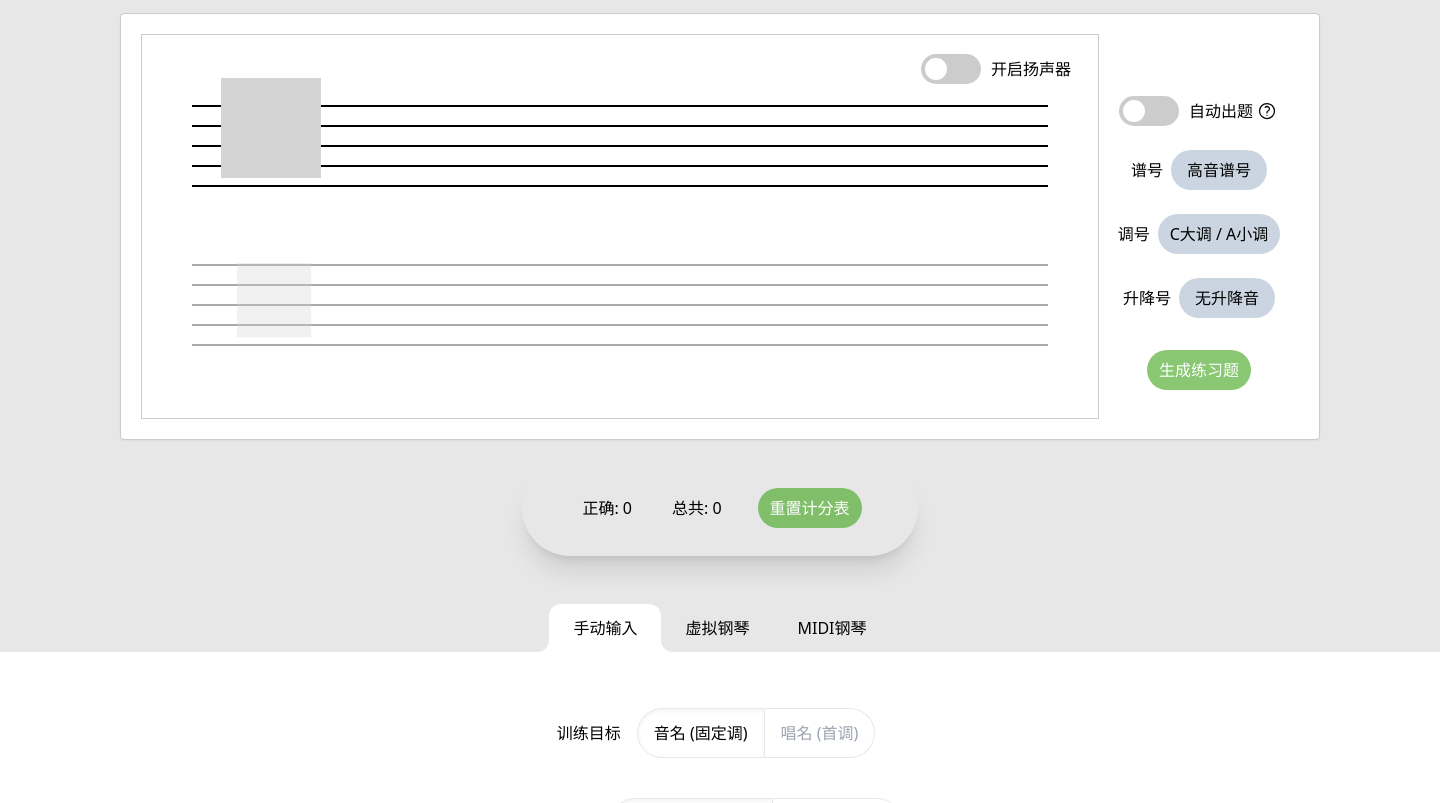
Test: answer submission › submitting a correct answer shows the correct feedback message
Note: Generate a note first
Click the button "生成练习题".
click(1199, 370)  # box [1147, 350, 1251, 390]
(page scrolled)
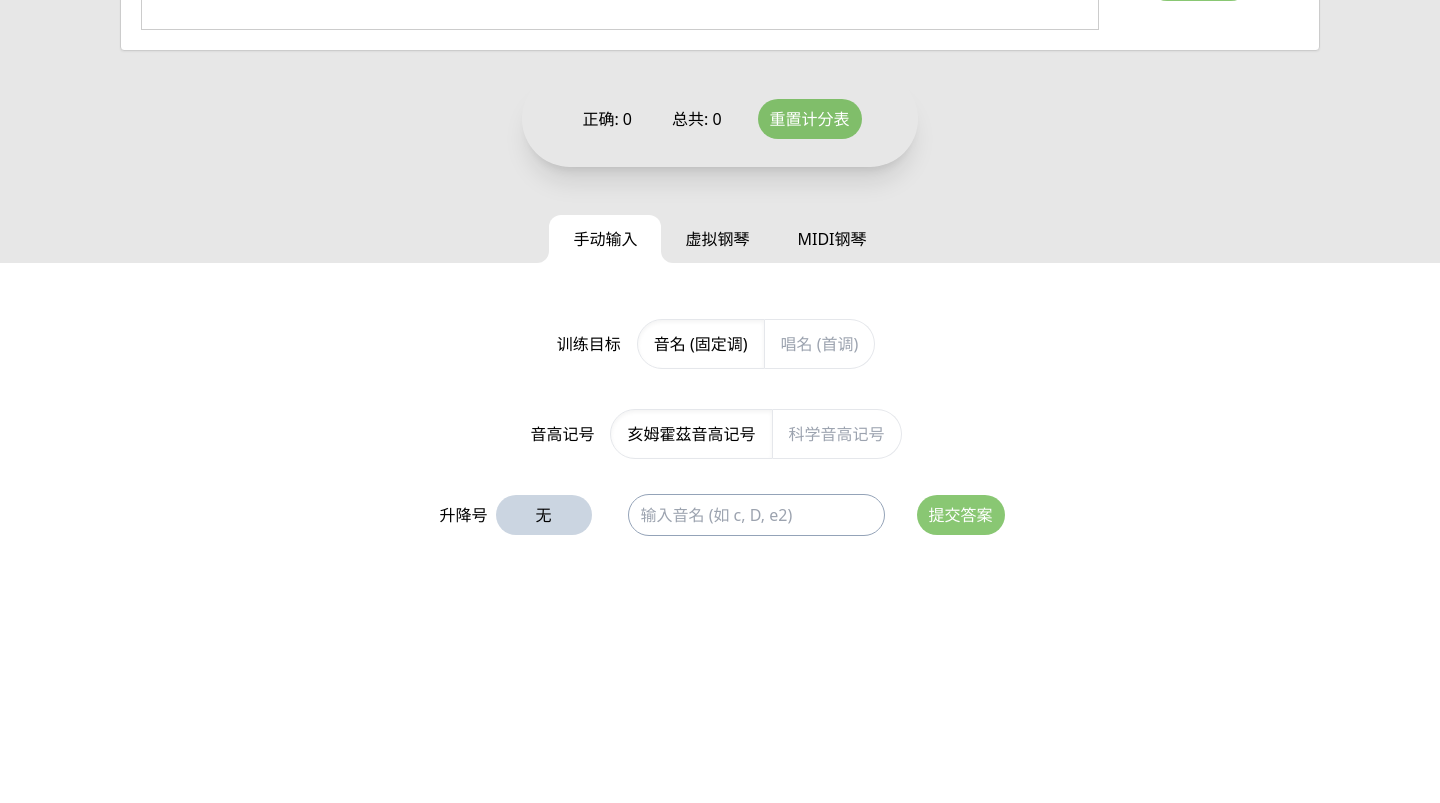
Type "c1" into the field with id "noteInput".
click(756, 515); type("c1")  # box [628, 494, 884, 536]
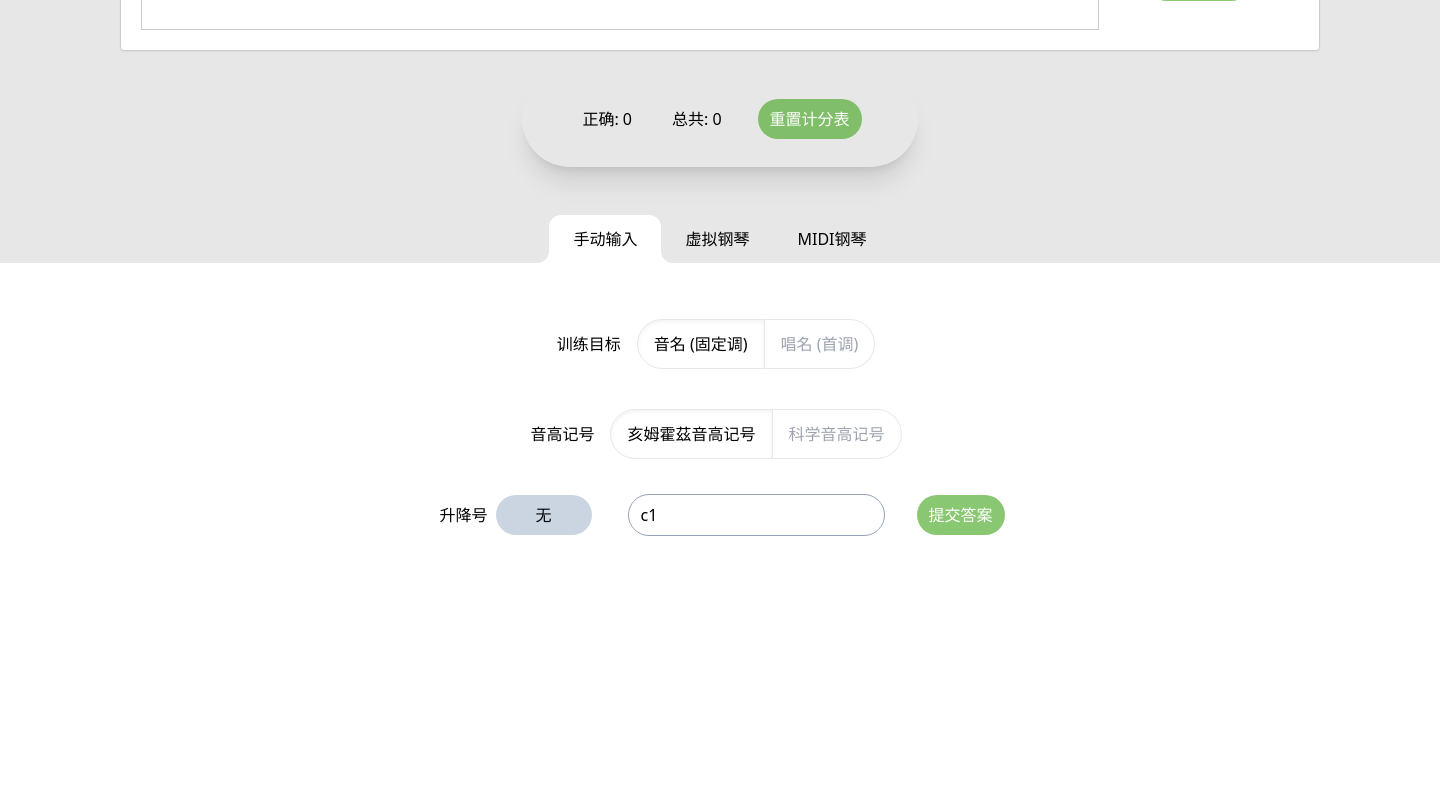
Click the button "提交答案".
click(960, 515)  # box [916, 495, 1004, 535]
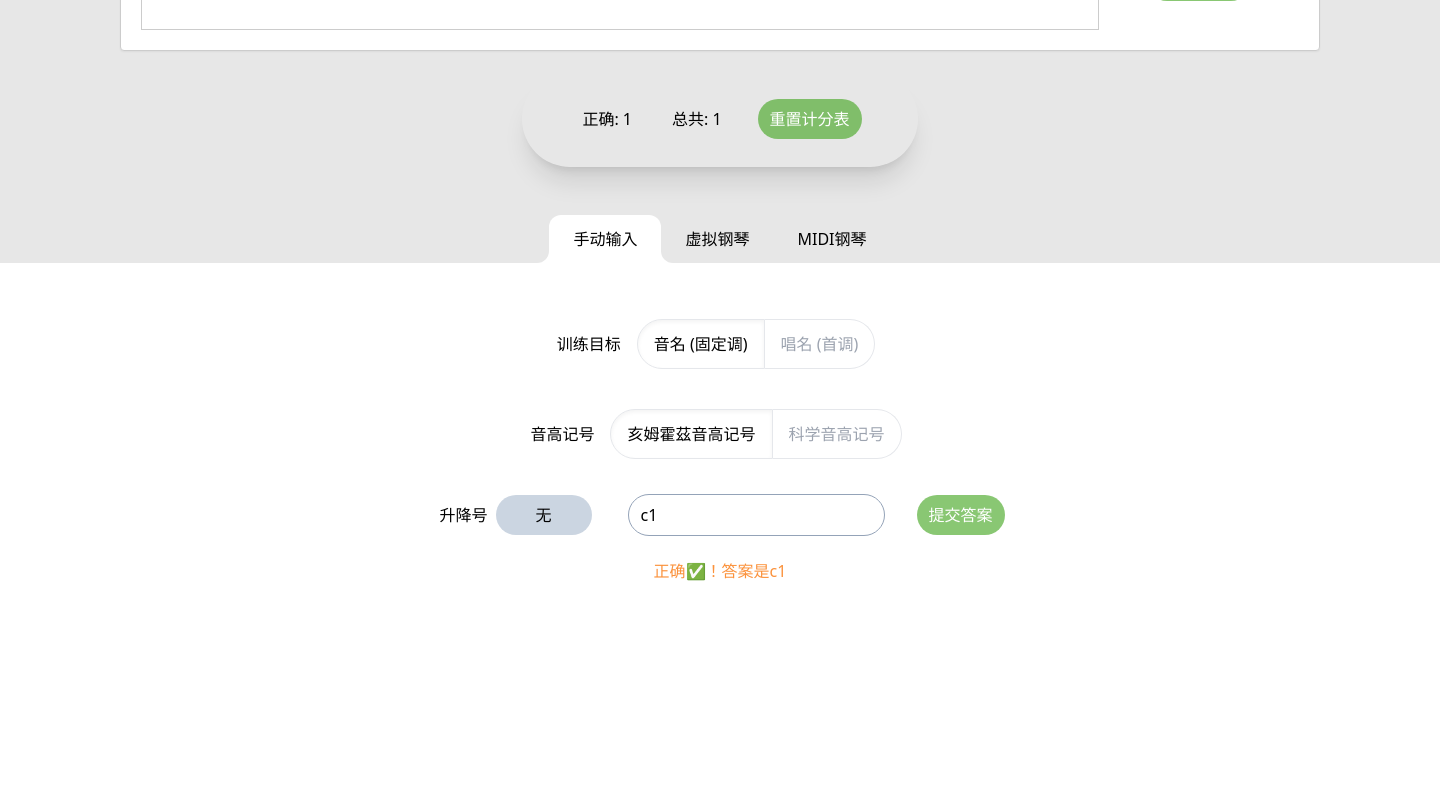
expect the text "正确✅" is shown: met, box [654, 560, 786, 582]
